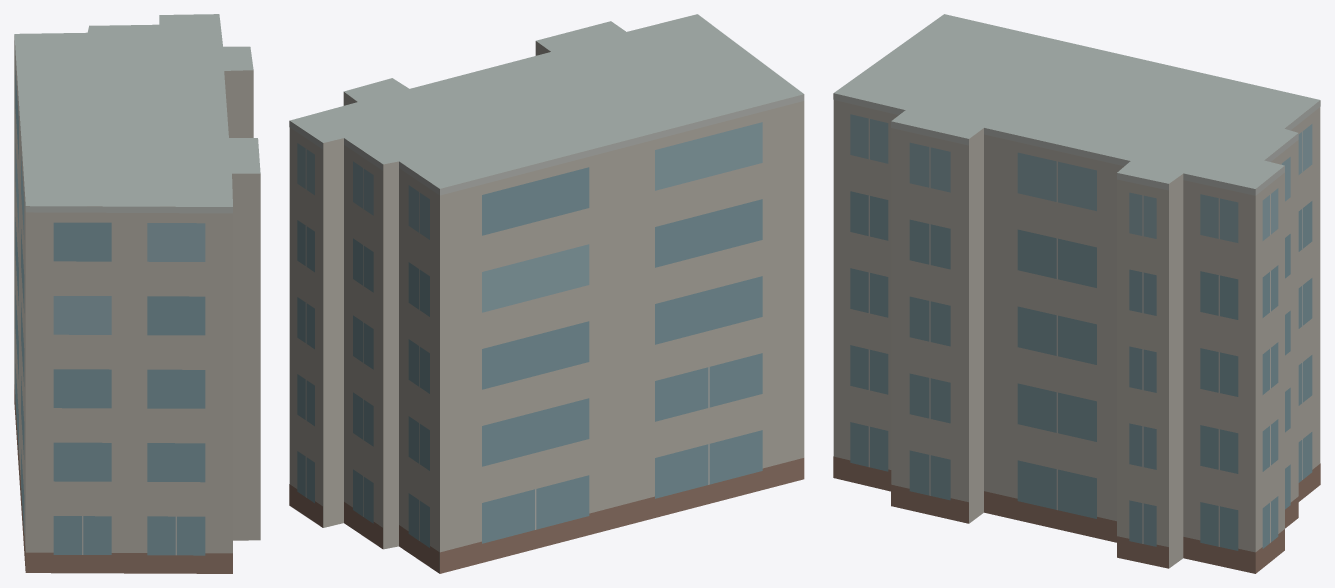
The model's file is survey-upis-32868926.glb.
3 renders of one model, left to right at view 1: azimuth 30°, elevation 25°; view 2: azimuth 150°, elevation 25°; view 3: azimuth 270°, elevation 25°, orthographic. The views are drawn at different scales.
Parts seen in each view (by area): view 1: survey-upis-32868926.tmp; view 2: survey-upis-32868926.tmp; view 3: survey-upis-32868926.tmp.
Part boxes in pixels (x1,y1,x2,y2): survey-upis-32868926.tmp: [14, 14, 260, 573]; survey-upis-32868926.tmp: [289, 14, 804, 573]; survey-upis-32868926.tmp: [833, 14, 1320, 573].
Bounding box in the file's own units: 13.77 × 14.1 × 16.18.
